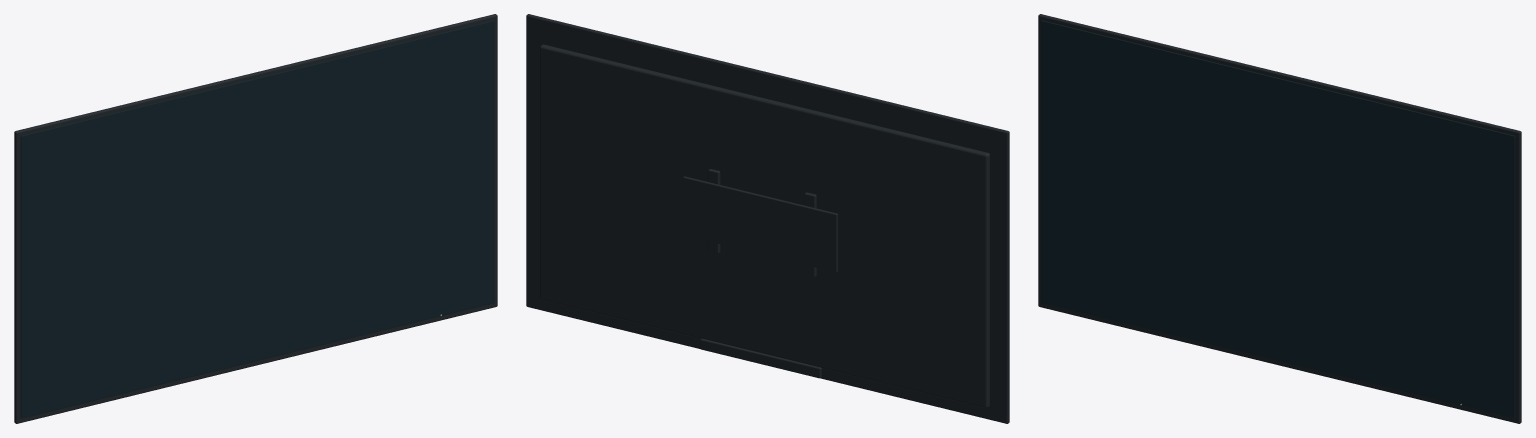
File: television-2.glb
3 renders of one model, left to right at view 1: azimuth 30°, elevation 25°; view 2: azimuth 150°, elevation 25°; view 3: azimuth 330°, elevation 25°, orthographic.
Visible parts, largest first — view 1: television:2:archviz; view 2: television:2:archviz; view 3: television:2:archviz.
Boxes of the visible parts, x1,y1,x2,y2 form: television:2:archviz: (14, 14, 497, 423); television:2:archviz: (526, 14, 1009, 423); television:2:archviz: (1038, 14, 1521, 423).
Size of the model in its own units: 1.45 by 0.84 by 0.0549.
